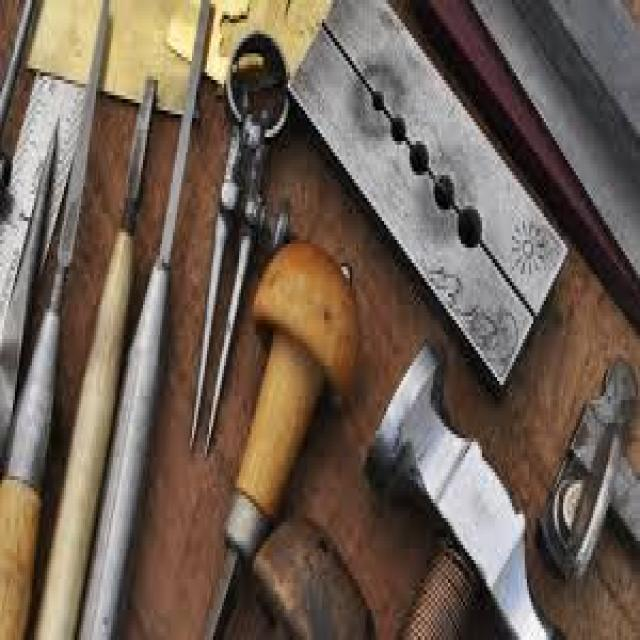hammer: (358, 320, 550, 640)
